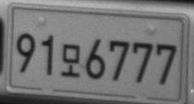1: (39, 33, 59, 75)
6: (85, 38, 107, 79)
7: (132, 41, 153, 84), (155, 44, 177, 85), (109, 39, 129, 81)
9: (16, 32, 35, 72)
모: (61, 43, 80, 77)
